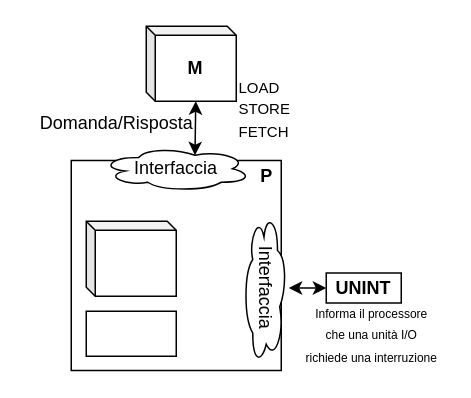
Some shapes in this 471 by 398 pixel diagram are drawn without their labels. The shapes that lost their labels are listed below. From the top down, each one's centre as x and y in pixels, then its label:
At (130,258): "REG".
At (130,333): "IC".
